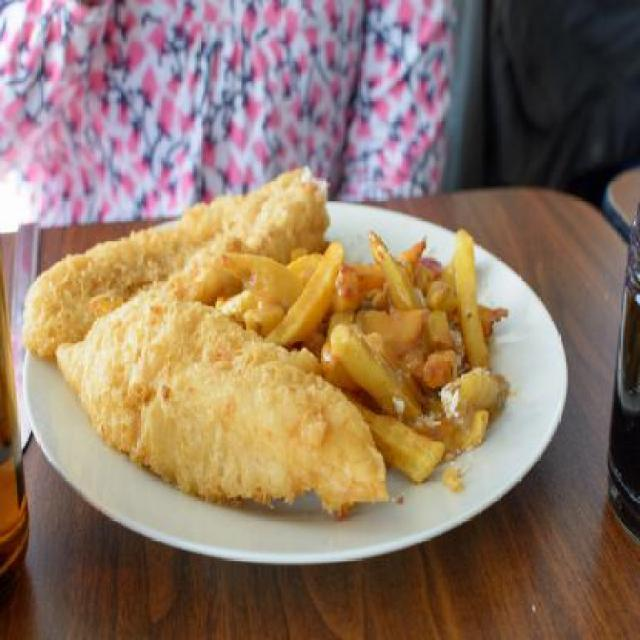French fries: (210, 202, 498, 480)
